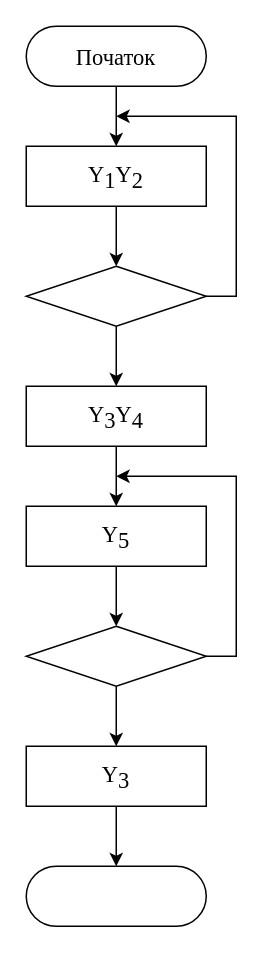
The diagram is 275 pixels wide and 953 high, and some of its shapes have lost their labels. The centre of each missing label's shape, as x and y in pixels:
X 1: the point at 115,295
X 2: the point at 115,655
Кінець: the point at 115,895
